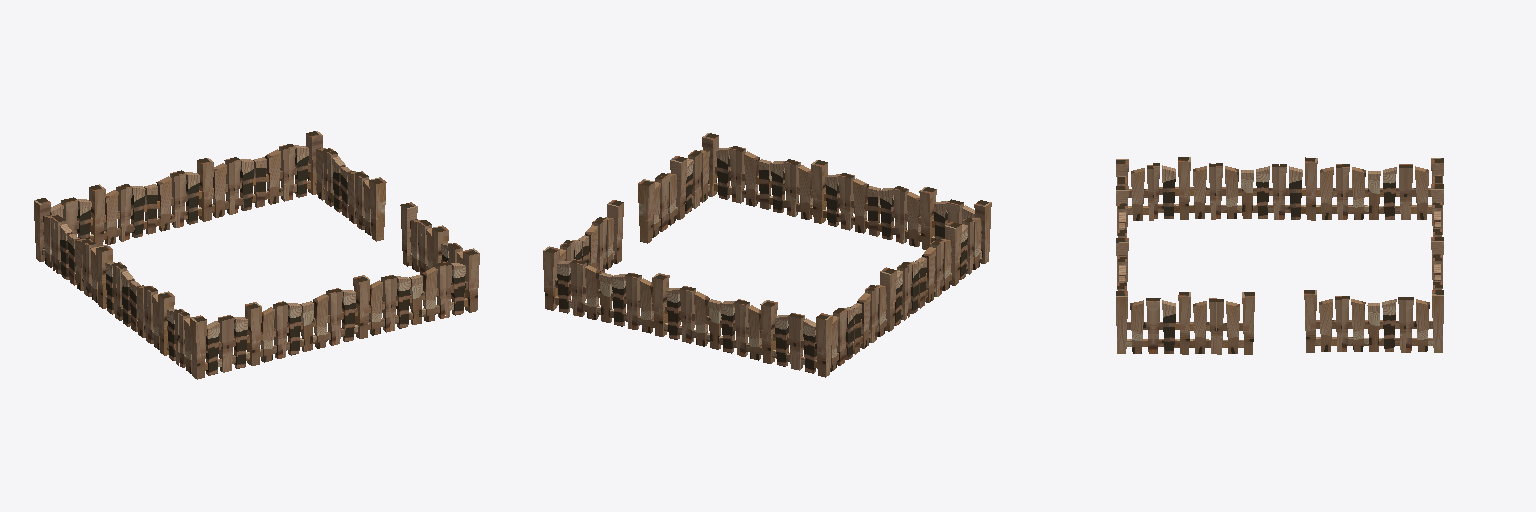
The picture shows the model from 3 angles: view 1: azimuth 30°, elevation 25°; view 2: azimuth 150°, elevation 25°; view 3: azimuth 270°, elevation 25°; orthographic projection.
Visible parts, largest first — view 1: fence2_end.001; view 2: fence2_end.001; view 3: fence2_end.001.
Boxes of the visible parts, x1=… form: fence2_end.001: x1=34, y1=131, x2=479, y2=379; fence2_end.001: x1=543, y1=133, x2=991, y2=377; fence2_end.001: x1=1116, y1=157, x2=1443, y2=354.
Bounding box in the file's own units: 260 × 53 × 259.
1 materials, 1 textured.